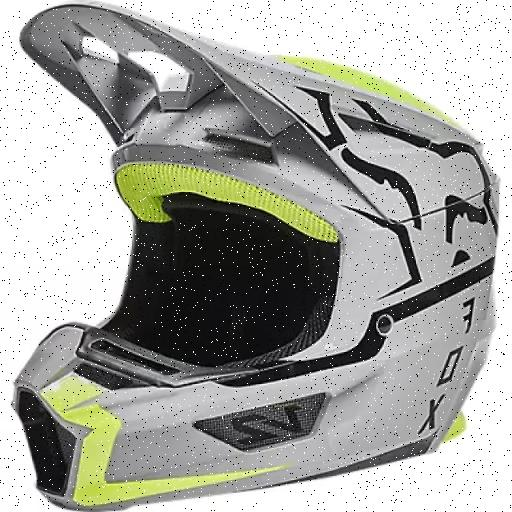Helmet: (16, 1, 488, 497)
